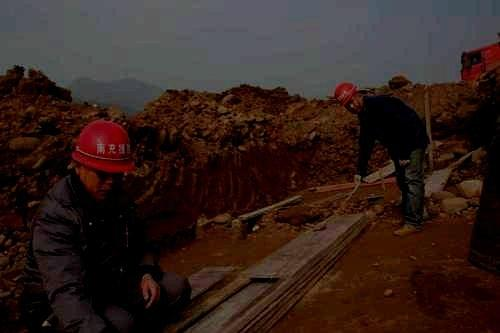helmet: (71, 119, 135, 198), (333, 82, 363, 113)
